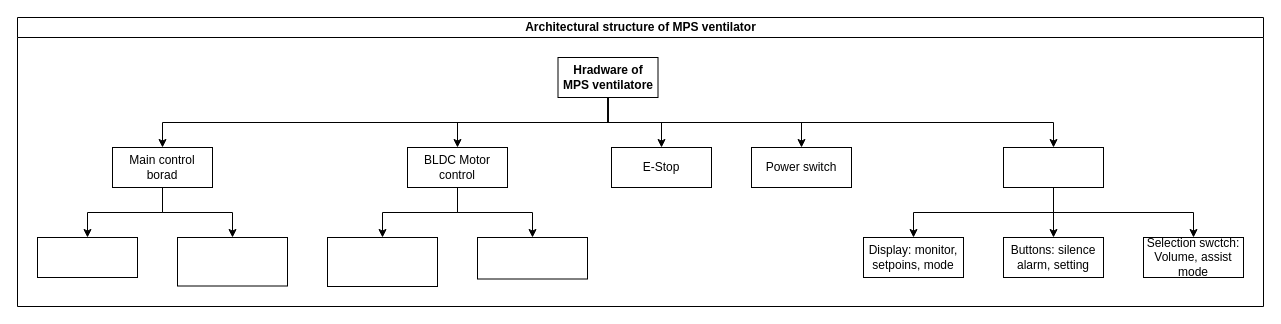
Image size: 1281x324. Some labels were removed from this diagram. Each missing label, with the centre of its shape:
"MPS controller [MP6710]" goes at point (87, 257).
"MPS DCDC Power modules [e.g.MPM54304]" goes at point (232, 261).
"MPS motor driver module [MMP742077-24-C]" goes at point (382, 261).
"MPS smart motor [EVKT-MSM942077-24]" goes at point (532, 257).
"User interface" goes at point (1053, 167).
